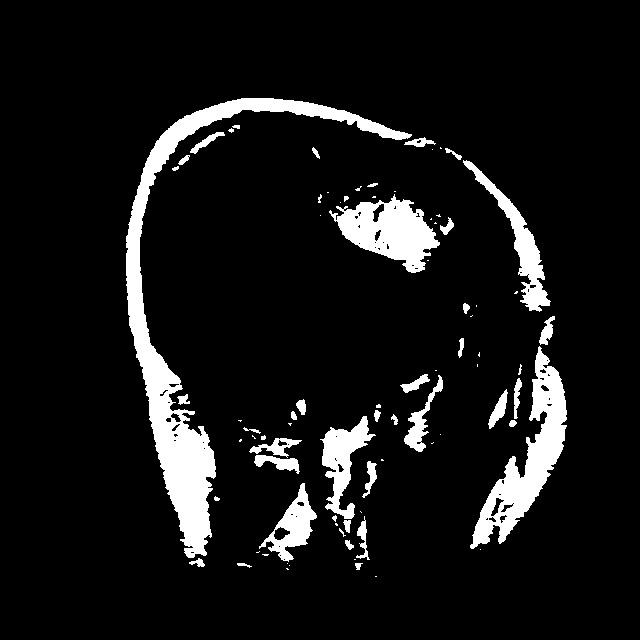Brain-Tumor: (317, 170, 473, 282)
